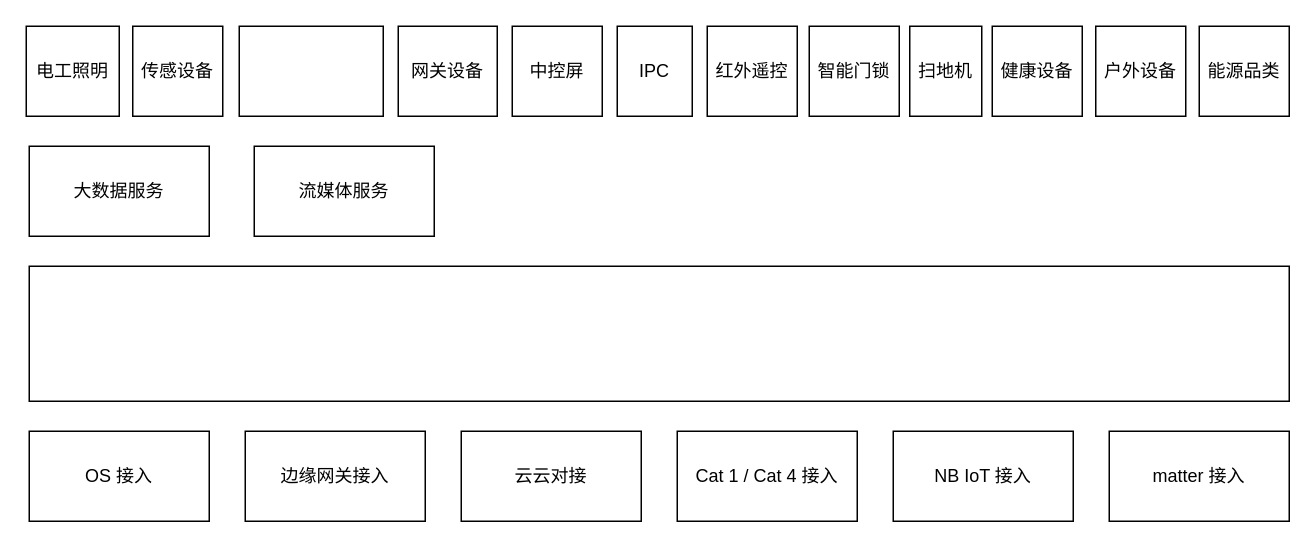
Image size: 1316x548. Some labels were removed from this diagram. The shapes that lost their labels are listed below. From the top down, each one's centre as x and y in pixels, then its label:
At [310,70]: "大小&厨房家电".
At [658,333]: "IoT 核心基座".
